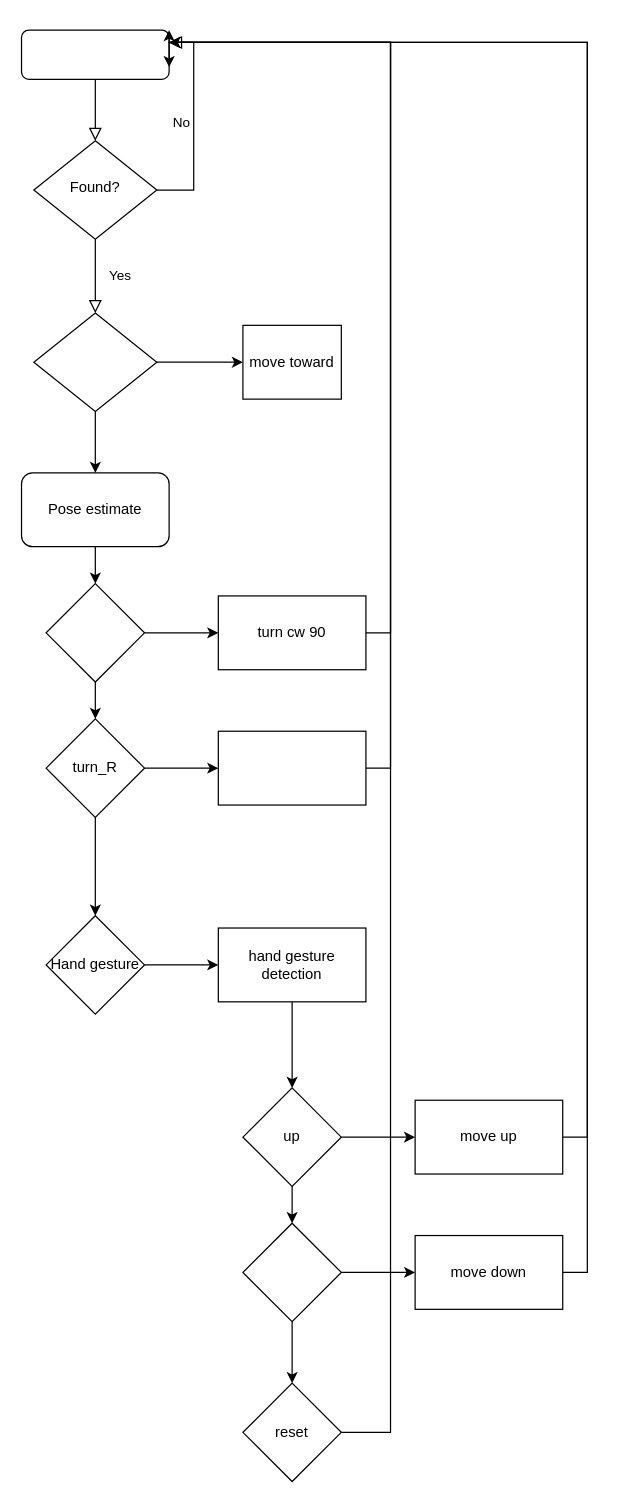
The diagram is 619 pixels wide and 1503 high, and some of its shapes have lost their labels. The centre of each missing label's shape, as x and y in pixels:
Close Enough?: point (95, 361)
down: point (291, 1272)
Search: point (94, 54)
turn ccw 90: point (291, 767)
turn_L: point (95, 632)
